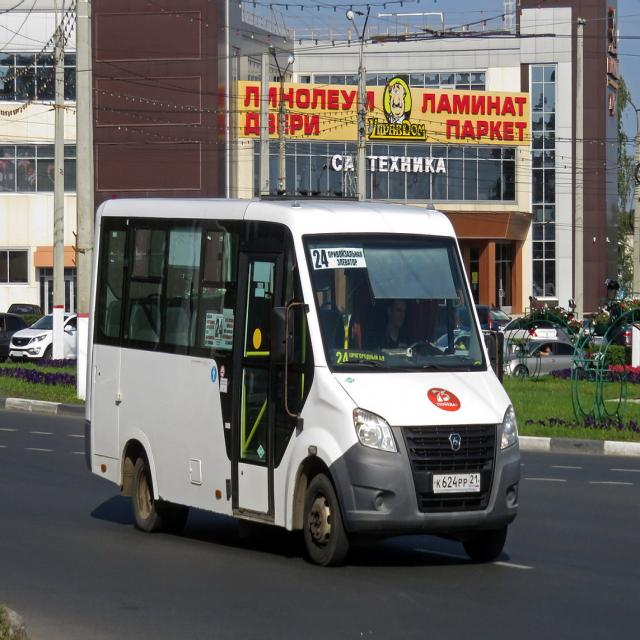number-of-bus: (310, 246, 332, 274), (216, 318, 226, 341)
